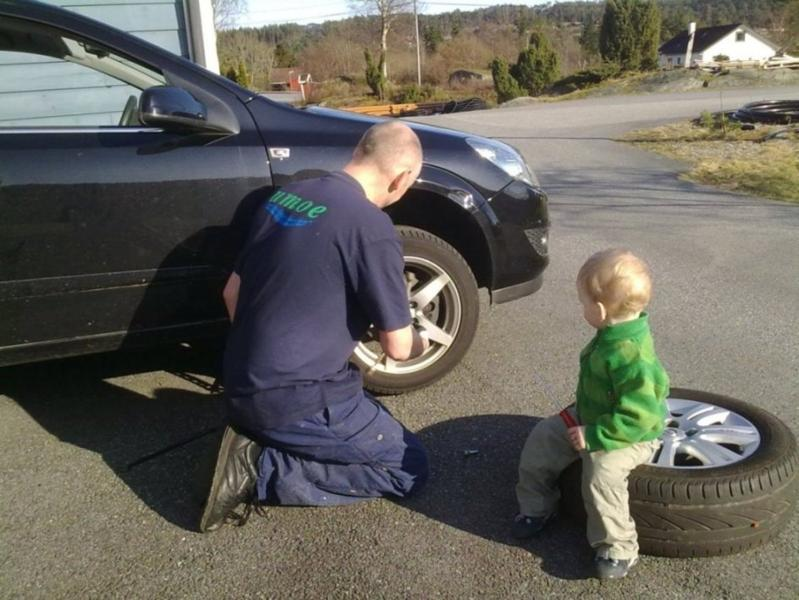person: (198, 118, 428, 537)
